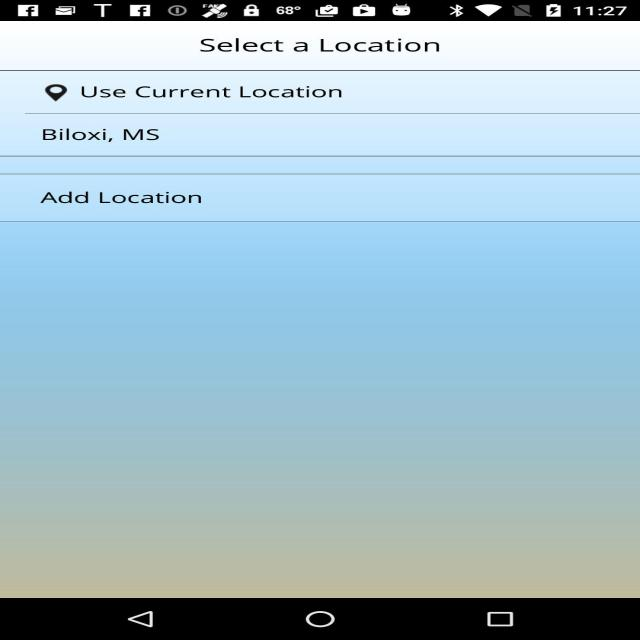button: (29, 184, 246, 221)
icon: (24, 74, 68, 100)
image: (21, 220, 640, 599)
text: (86, 77, 360, 108), (29, 121, 143, 144)
